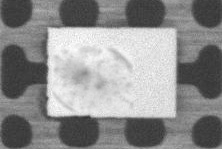DIE_INK: (72, 29, 203, 77)
